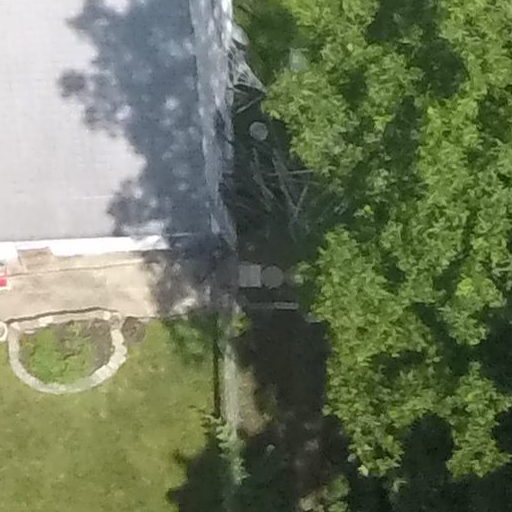container: (259, 260, 287, 290), (246, 116, 272, 144), (1, 316, 6, 345)
